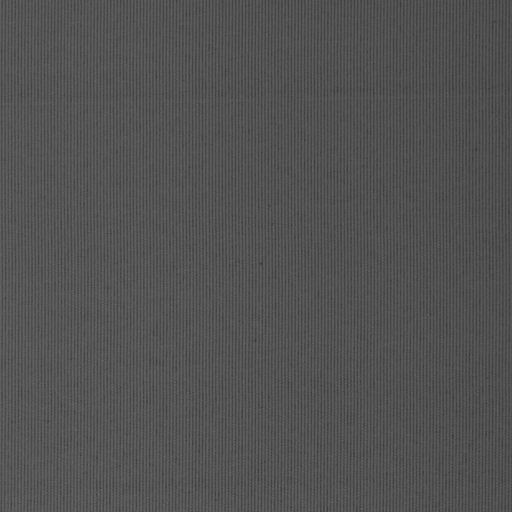defect: (1, 92, 512, 109)
